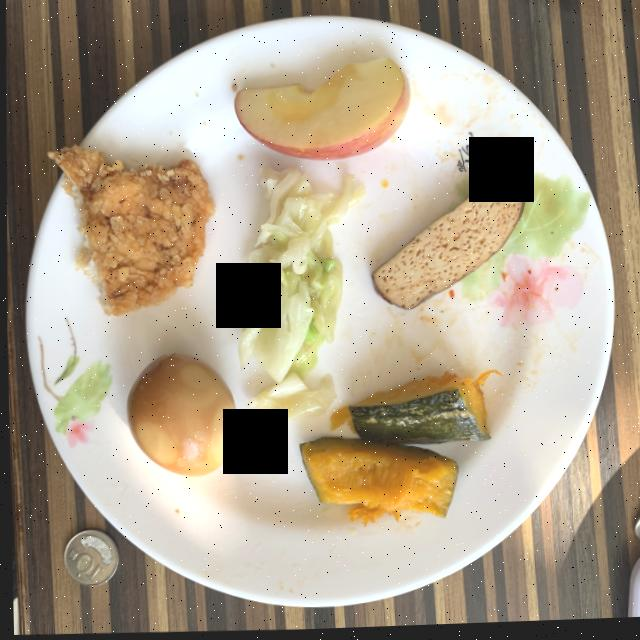apple -sliced-: (234, 62, 409, 162)
cabbage: (236, 171, 359, 424)
coin: (61, 531, 115, 586)
firm tofu: (371, 171, 524, 312)
fried chicken cutlet: (47, 147, 213, 316)
pumpkin: (298, 375, 487, 525)
soy egg: (126, 355, 234, 477)
